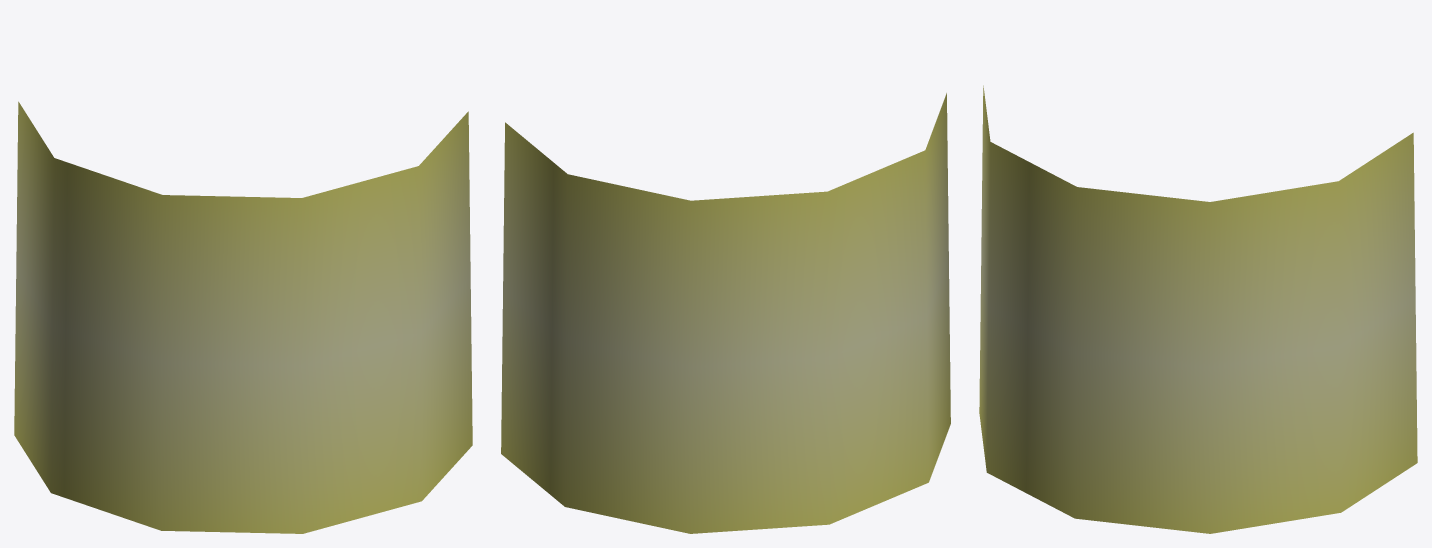
The model's file is LanternLightCylinderLeft_2.glb.
3 renders of one model, left to right at view 1: azimuth 30°, elevation 25°; view 2: azimuth 150°, elevation 25°; view 3: azimuth 270°, elevation 25°, orthographic.
Visible parts, largest first — view 1: LanternLightCylinderLeft; view 2: LanternLightCylinderLeft; view 3: LanternLightCylinderLeft.
Part boxes in pixels (<box>): LanternLightCylinderLeft: <box>14,101,472,533</box>; LanternLightCylinderLeft: <box>501,93,950,533</box>; LanternLightCylinderLeft: <box>979,85,1417,533</box>.
Bounding box in the file's own units: 0.4118 × 0.3312 × 0.3983.
